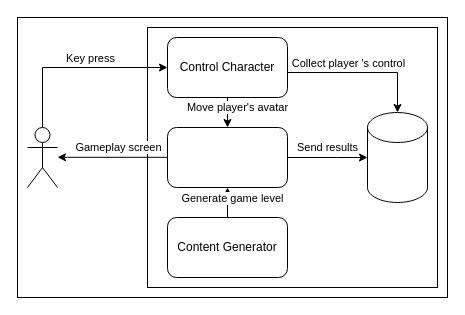
The diagram is 465 pixels wide and 315 high, and some of its shapes have lost their labels. The shapes that lost their labels are listed below. From the top down, each one's centre as x and y in pixels, then its label:
(227,157): The Game
(397,157): Database (Google Form)
